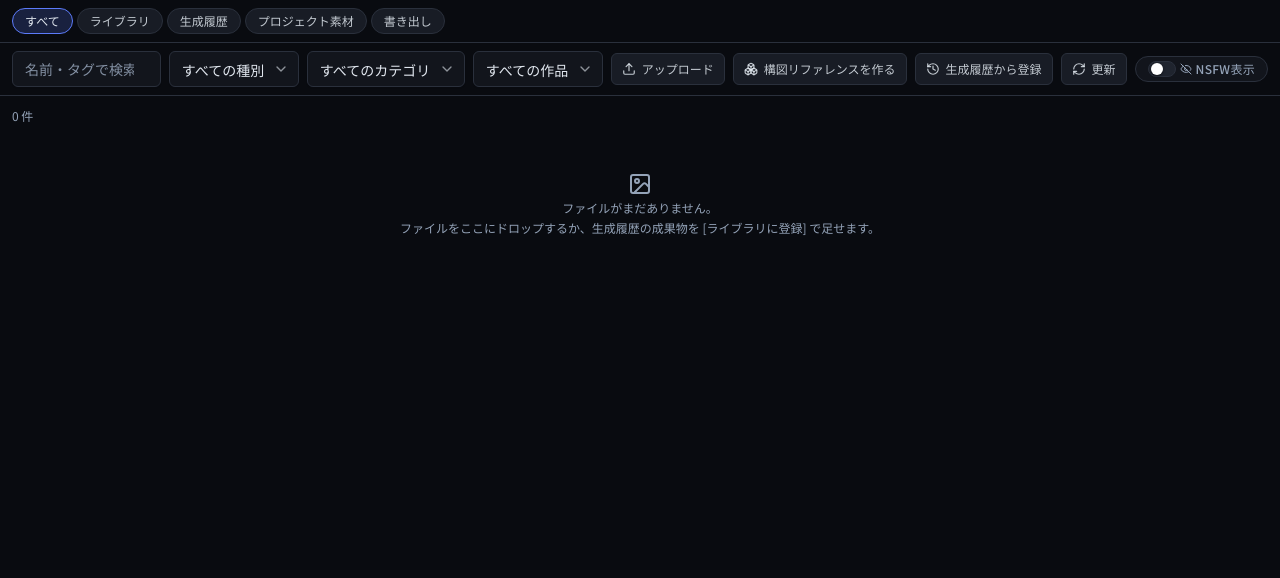
Test case: LibraryView › 書き出しは 1 本 = 1 タイルで、詳細に規格と作品が出る
What coordinates should you click on to do the following:
click the tab "書き出し"
I would click on:
 (408, 21)
Its box is [371,8,445,34].
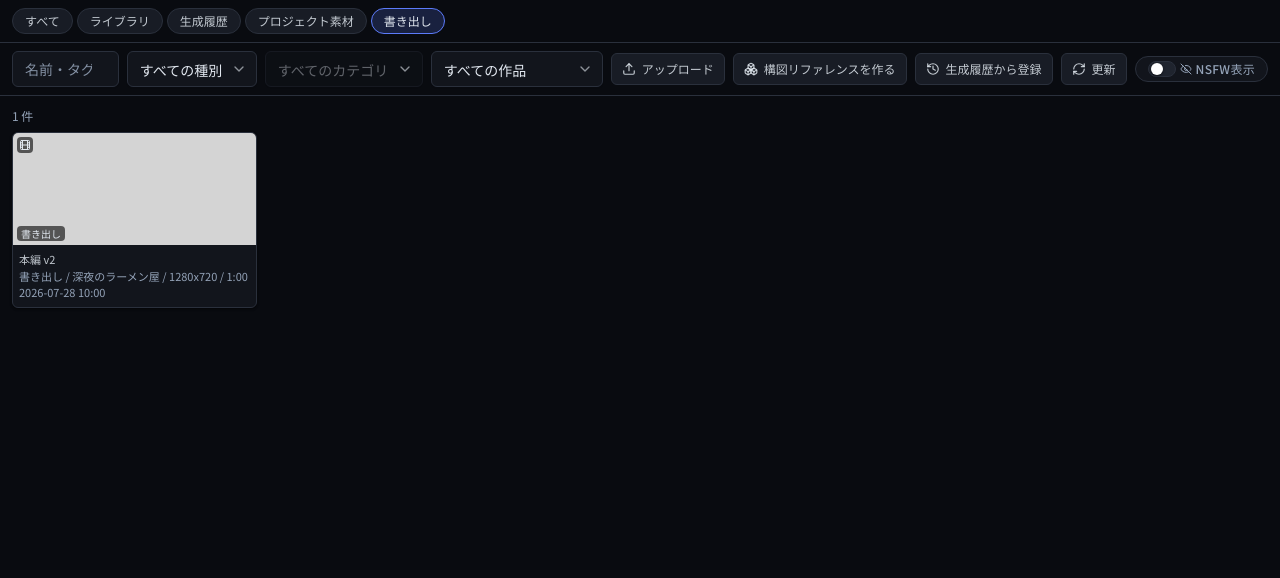
Now the text "本編 v2" is shown
Now the text "書き出し / 深夜のラーメン屋 / 1280x720 / 1:00" is shown, box [13,268,256,284]
What coordinates should you click on to do the following:
click the text "本編 v2"
I would click on:
 (37, 259)
Its box is [19,251,55,267].
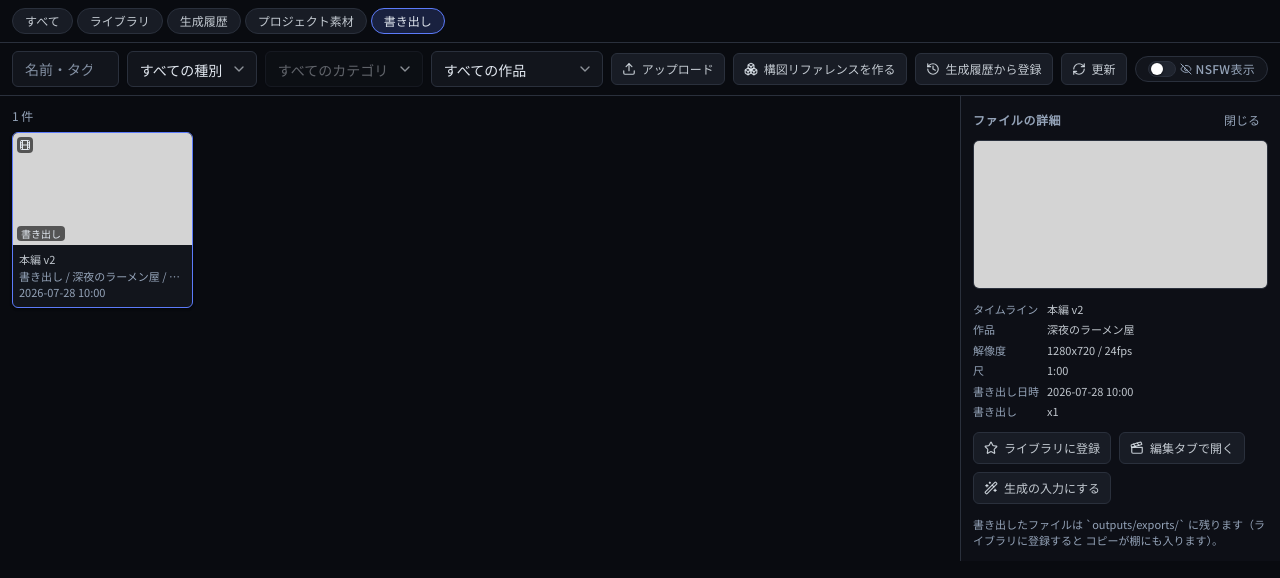
Now the text "1280x720 / 24fps" is shown, box [1047,342,1132,358]
